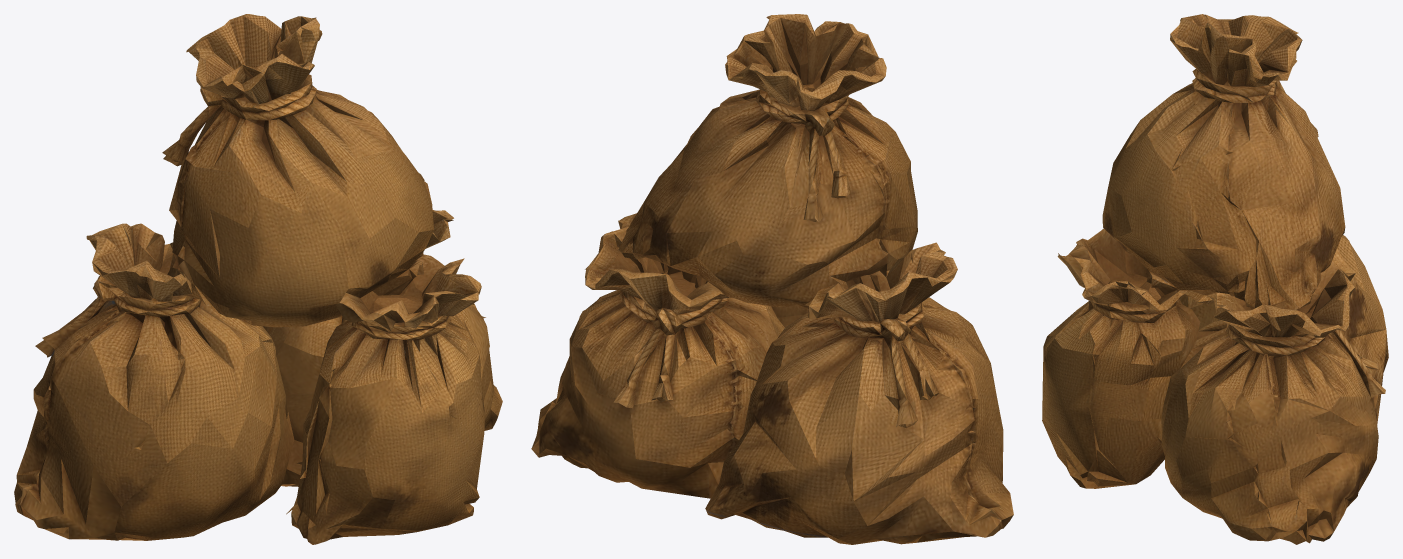
File: stack-of-burlap-grain-sacks.glb
3 renders of one model, left to right at view 1: azimuth 30°, elevation 25°; view 2: azimuth 150°, elevation 25°; view 3: azimuth 270°, elevation 25°, orthographic. The views are drawn at different scales.
Size of the model in its own units: 1.9 by 1.78 by 1.32.
Materials: 1 (1 with a texture image).
